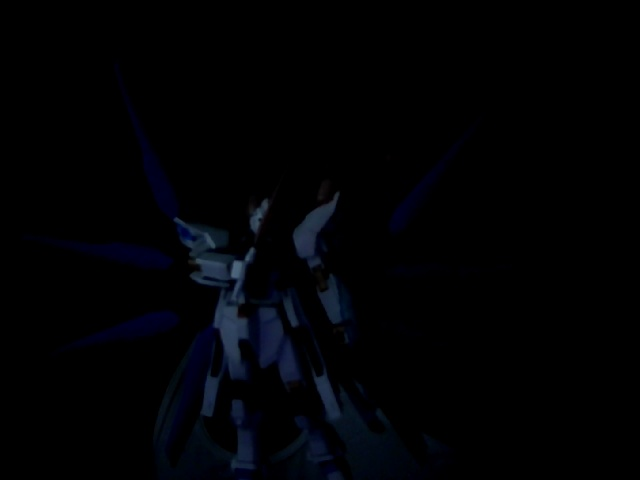Freedom-Destiny: (130, 132, 434, 480)
